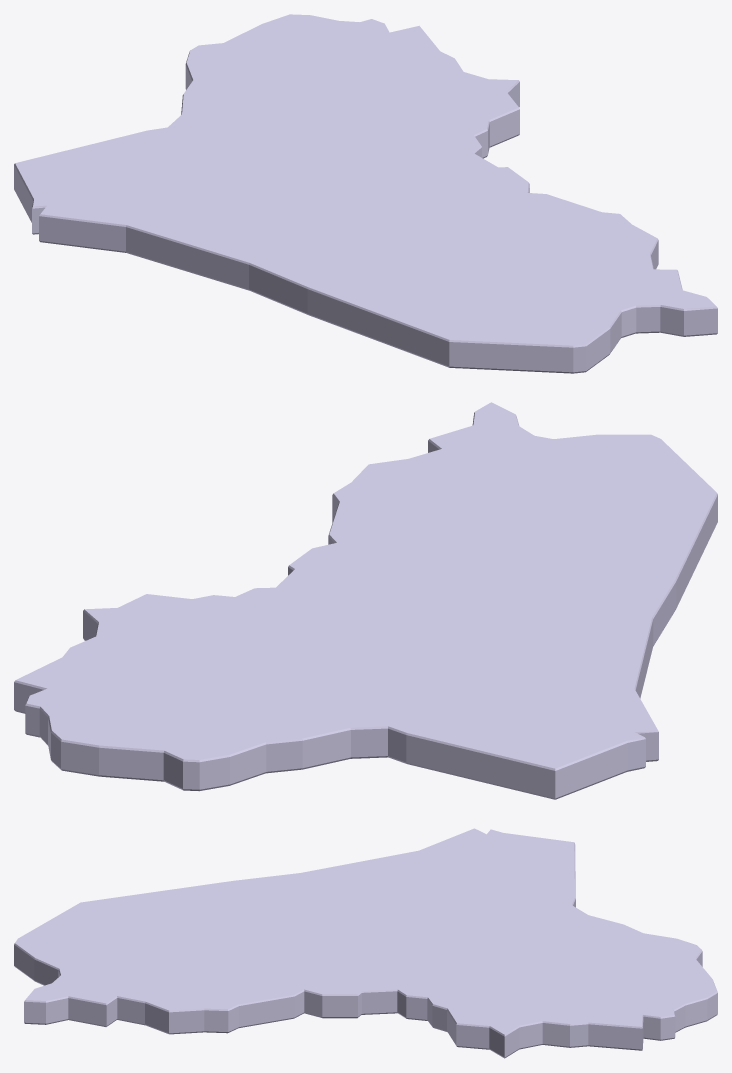
File: IRQ.glb
3 views of the same model, one above another, from view 1: azimuth 30°, elevation 25°; view 2: azimuth 150°, elevation 25°; view 3: azimuth 270°, elevation 25° (orthographic). The views are drawn at different scales.
Size of the model in its own units: 1.27 by 0.068 by 1.82.
